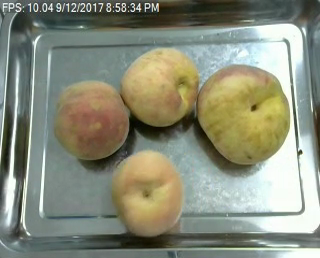Peach: (196, 63, 290, 164), (119, 45, 199, 129), (112, 151, 184, 236), (54, 80, 129, 160)
